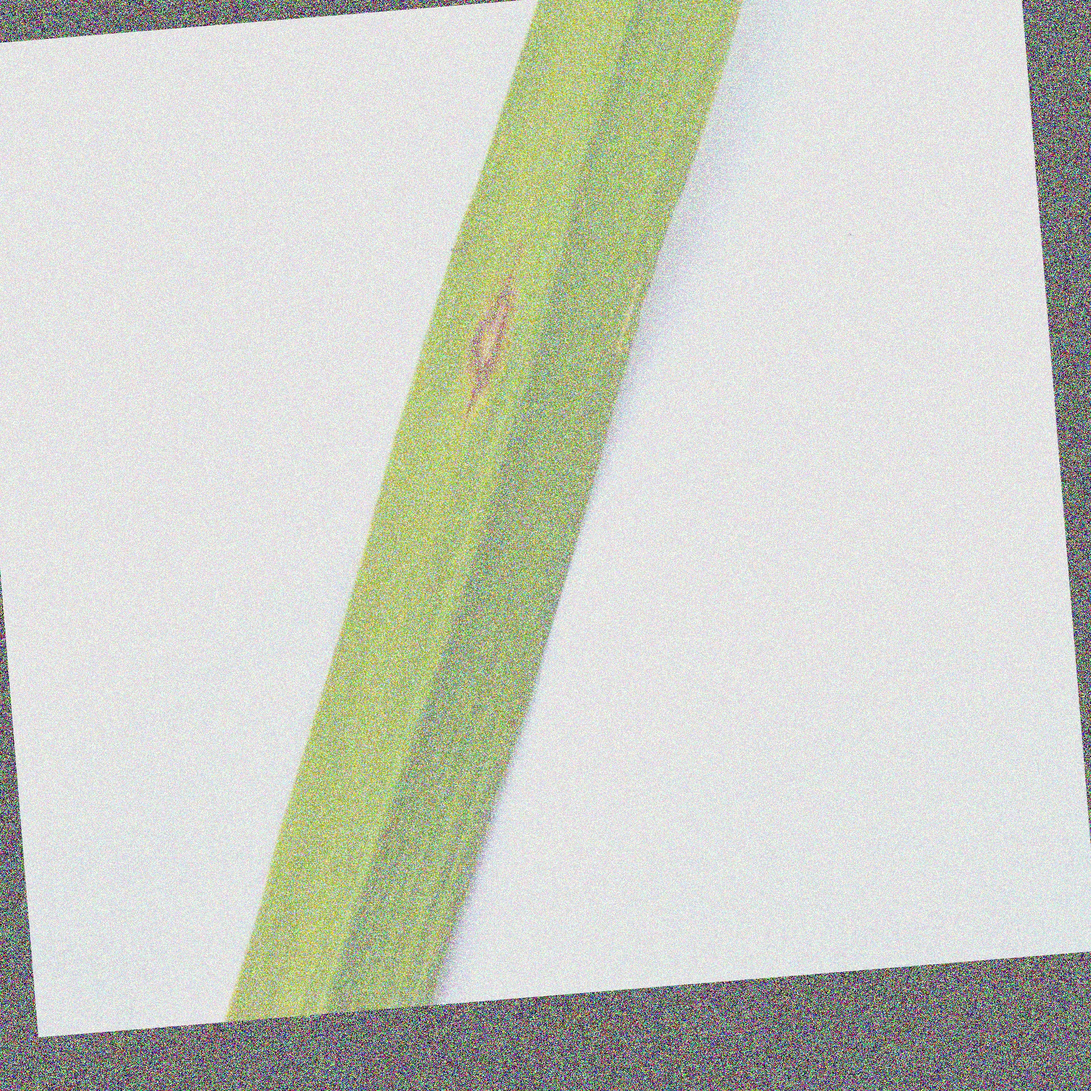Brown_Spot: (437, 228, 549, 410)
